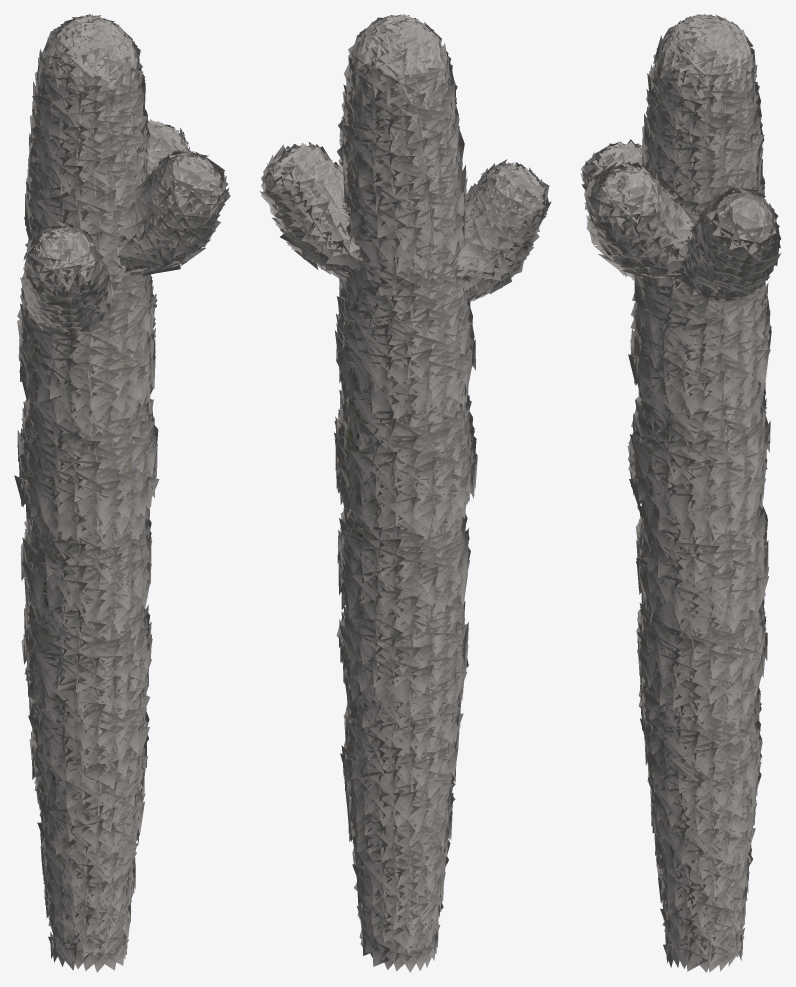
File: s_saguaro1.glb
3 renders of one model, left to right at view 1: azimuth 30°, elevation 25°; view 2: azimuth 150°, elevation 25°; view 3: azimuth 270°, elevation 25°, orthographic.
Parts seen in each view (by area): view 1: Carnegiea_gigantea_HD_Cactus spines 01_0; view 2: Carnegiea_gigantea_HD_Cactus spines 01_0; view 3: Carnegiea_gigantea_HD_Cactus spines 01_0.
Boxes of the visible parts, box(x1,y1,x2,y2) form: Carnegiea_gigantea_HD_Cactus spines 01_0: box(14, 14, 230, 972); Carnegiea_gigantea_HD_Cactus spines 01_0: box(260, 14, 551, 972); Carnegiea_gigantea_HD_Cactus spines 01_0: box(580, 14, 781, 972).
Size of the model in its own units: 0.7173 by 2.9 by 0.5599.
3 materials, 3 textured.
